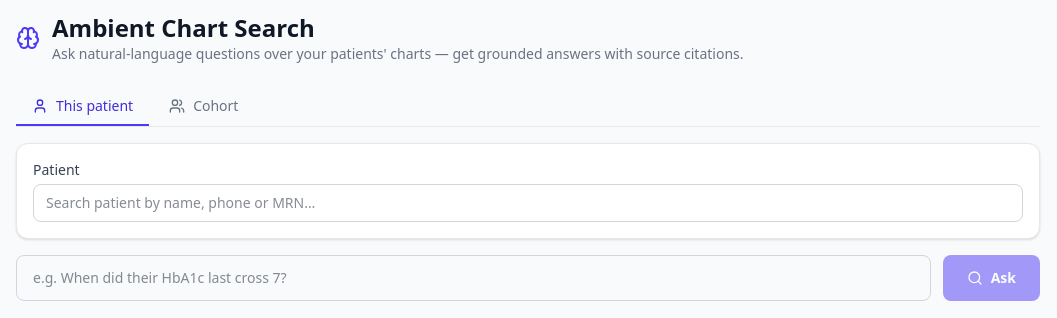
Ambient Chart Search dashboard page › switching to Cohort tab hides the patient picker and shows the cohort notice
Click the tab "Cohort".
click(204, 107)  # box x1=153 y1=88 x2=254 y2=126
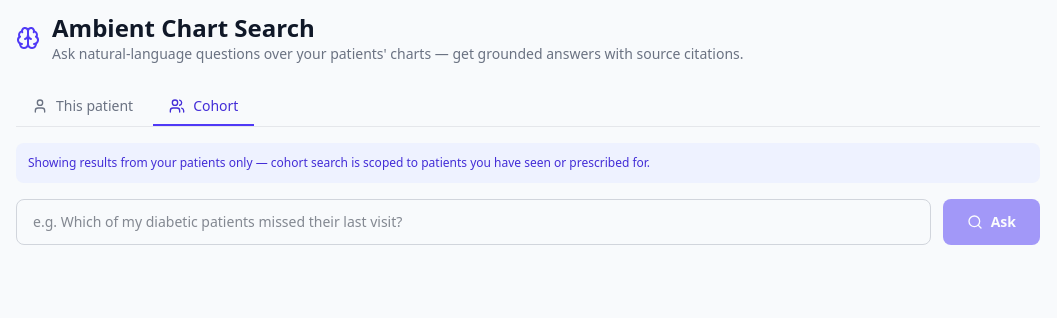
expect the field with placeholder "Search patient by name" is not shown: met
expect the text "cohort search is scoped to patients you have seen" is shown: met, box x1=28 y1=154 x2=650 y2=171
expect the field with placeholder "e.g. Which of my diabetic patients missed their last visit?" is shown: met, box x1=16 y1=199 x2=931 y2=245
